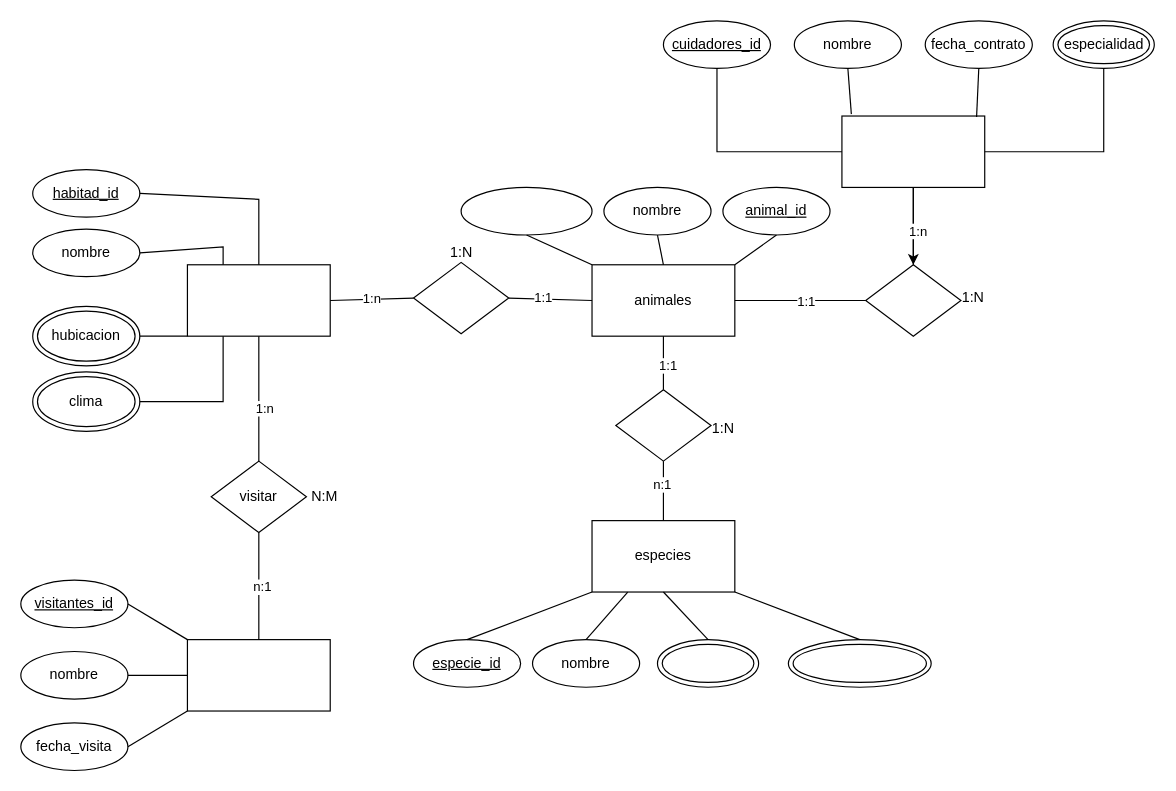
This 1176x791 diagram has some shape labels left out. The shapes that lost their labels are listed below. From the top down, each one's box as (x1, y1, x2, y2) in pixels, then its label:
(841, 115, 985, 187): cuidador
(460, 186, 592, 235): fechaDeNacimineto
(186, 264, 330, 336): habitats
(412, 261, 509, 334): vive
(865, 264, 961, 336): cargo
(615, 389, 711, 461): pertenece
(186, 638, 330, 711): visitantes
(656, 638, 759, 687): familia
(787, 638, 931, 687): estado_conservacion
